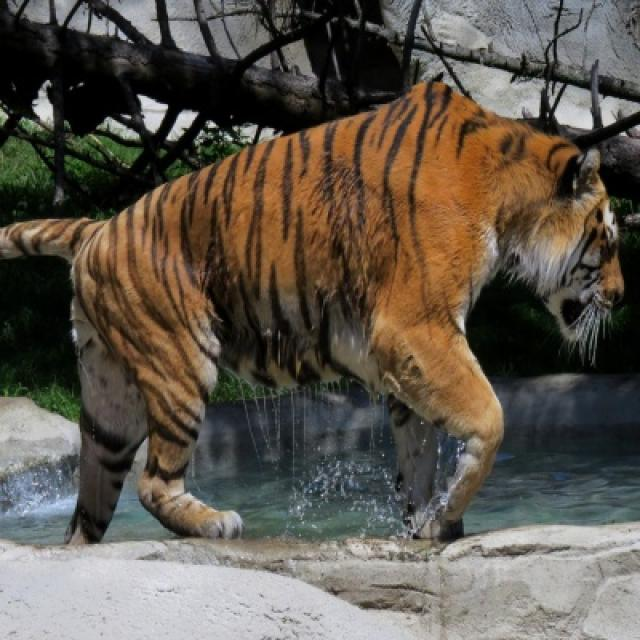Tiger: (1, 78, 627, 549)
